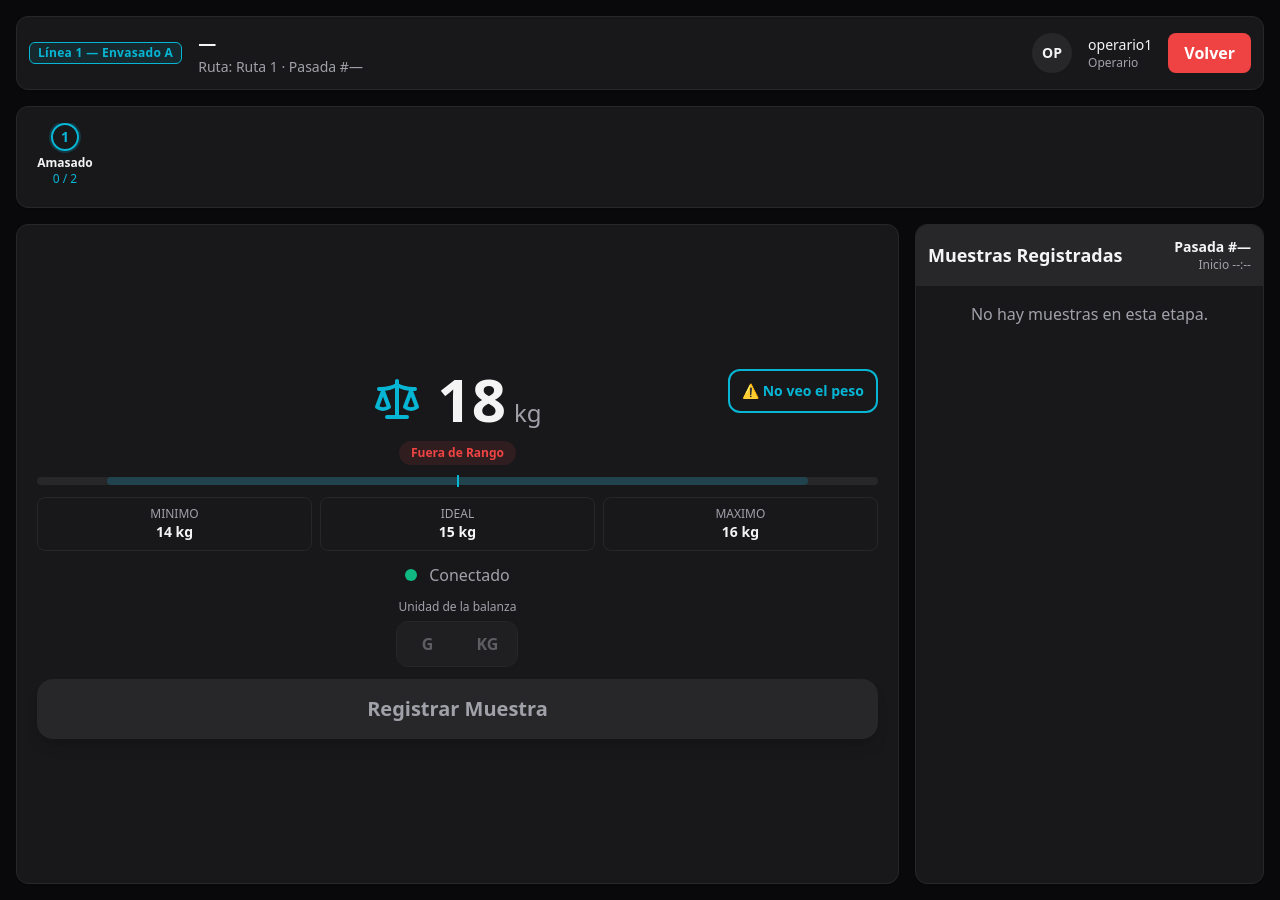
it: TabletWorkspace › con tolerancia 10 el mismo peso sigue bloqueado y el popup muestra "10%"
Step 1. Click the button "Registrar Muestra" → (457, 709), box [37, 679, 878, 739]
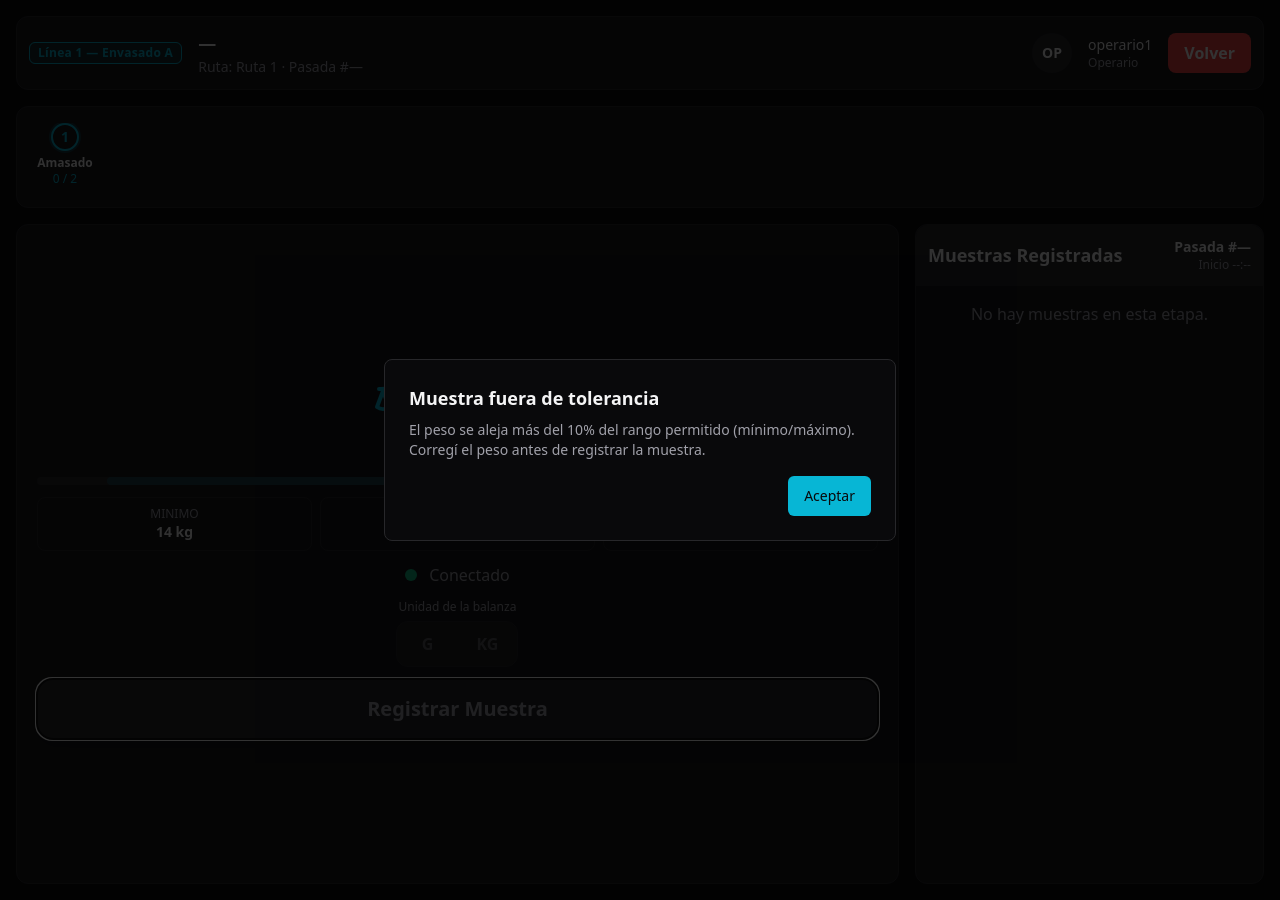
Expected: the text "más del 10% del rango permitido" is shown, [409, 420, 855, 459]
